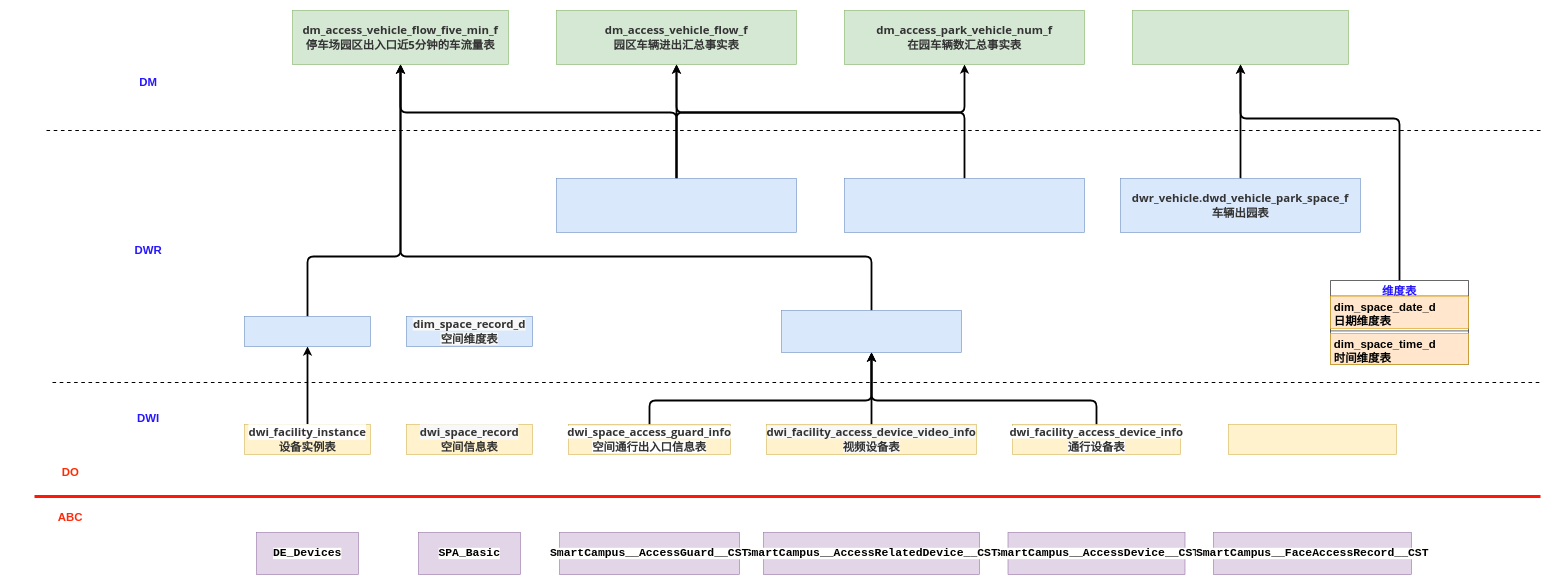
Image size: 1553x585. Some labels were removed from this diagram. Each missing label, with the centre of its shape:
"dim_facility_instance_d 设备实例维表" belongs at (x=307, y=331).
"dim_space_guard_device_d 出入口信息设备关联表 (只存储最大批次)" belongs at (x=871, y=331).
"dm_access_vehicle_park_trend_f 园区车辆趋势汇总事实表" belongs at (x=1240, y=37).
"dwi_person_swing_face 人脸识别通行表" belongs at (x=1312, y=439).
"dwr_vehicle.dwd_vehicle_entry_f 车辆进园表" belongs at (x=676, y=205).
"dwr_vehicle.dwd_vehicle_exits_f 车辆出园表" belongs at (x=964, y=205).
